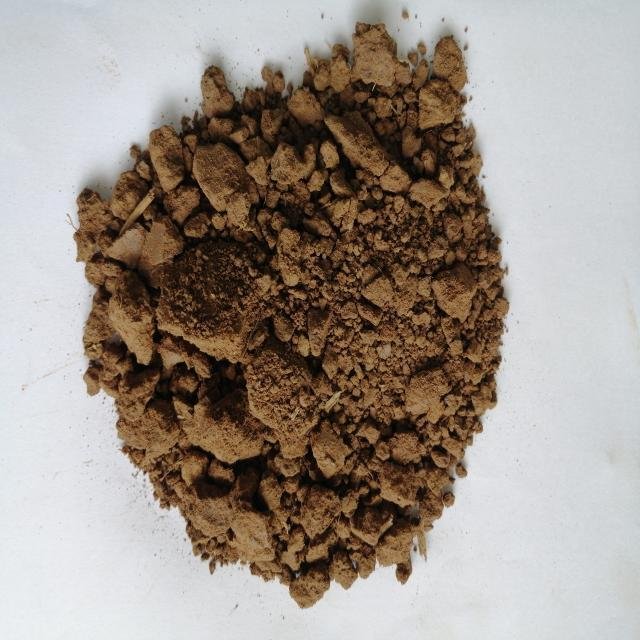soil: (133, 146, 463, 449)
